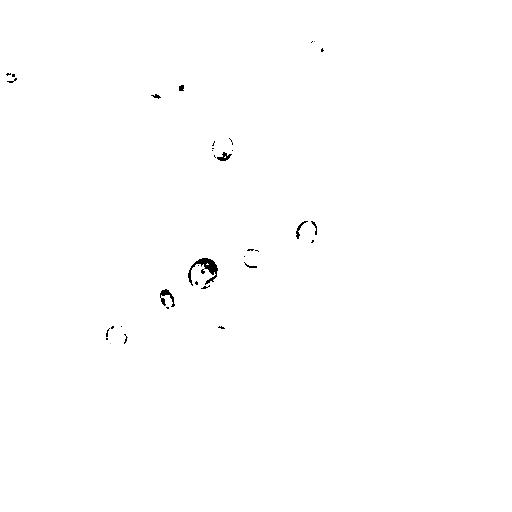micro-algae: (41, 50, 97, 104), (187, 256, 219, 291), (75, 262, 106, 295), (269, 101, 298, 135), (494, 354, 512, 399), (212, 132, 235, 163), (295, 219, 320, 247), (105, 321, 128, 350), (242, 247, 267, 269), (159, 288, 176, 310), (305, 39, 327, 56), (2, 71, 17, 83), (176, 82, 189, 92)
